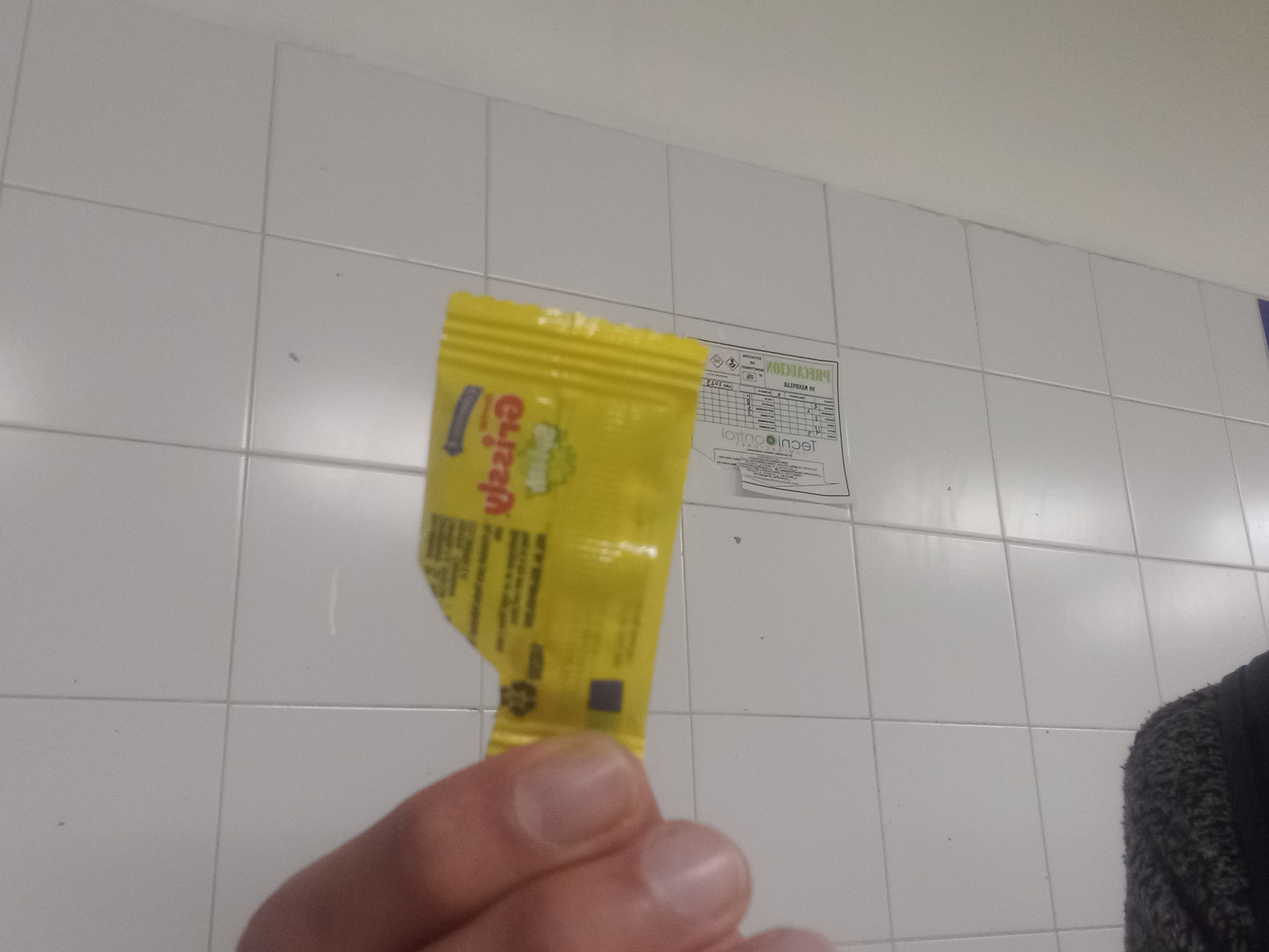Ordinario: (422, 288, 711, 758)
